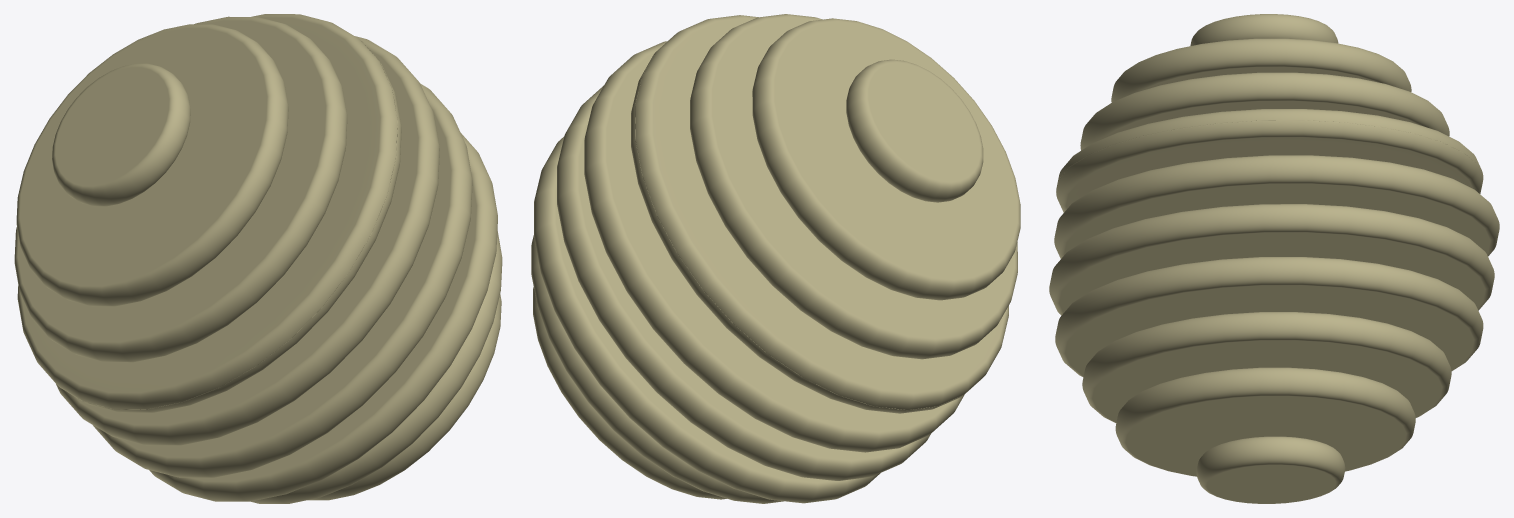
3 renders of one model, left to right at view 1: azimuth 30°, elevation 25°; view 2: azimuth 150°, elevation 25°; view 3: azimuth 270°, elevation 25°, orthographic. The views are drawn at different scales.
Parts seen in each view (by area): view 1: Cylinder007001, Cylinder009001, Cylinder008001, Cylinder005002, Cylinder005001, Cylinder004001, Cylinder006001, Cylinder003001, Cylinder002001; view 2: Cylinder007001, Cylinder009001, Cylinder008001, Cylinder005002, Cylinder005001, Cylinder004001, Cylinder006001, Cylinder003001, Cylinder002001; view 3: Cylinder004001, Cylinder005001, Cylinder002001, Cylinder003001, Cylinder005002, Cylinder009001, Cylinder008001, Cylinder007001, Cylinder001001, Cylinder006001.
Boxes of the visible parts, x1,y1,x2,y2 form: Cylinder007001: [16, 24, 288, 306]; Cylinder009001: [17, 14, 401, 412]; Cylinder008001: [14, 16, 347, 362]; Cylinder005002: [56, 36, 439, 445]; Cylinder005001: [93, 83, 472, 477]; Cylinder004001: [149, 133, 497, 501]; Cylinder006001: [52, 63, 190, 206]; Cylinder003001: [251, 231, 502, 503]; Cylinder002001: [308, 294, 501, 500]; Cylinder007001: [752, 18, 1020, 300]; Cylinder009001: [631, 15, 1008, 413]; Cylinder008001: [690, 14, 1017, 359]; Cylinder005002: [584, 41, 964, 452]; Cylinder005001: [557, 85, 930, 480]; Cylinder004001: [534, 136, 880, 503]; Cylinder006001: [846, 59, 983, 202]; Cylinder003001: [531, 235, 783, 503]; Cylinder002001: [533, 287, 726, 499]; Cylinder004001: [1055, 257, 1483, 376]; Cylinder005001: [1049, 204, 1494, 315]; Cylinder002001: [1115, 367, 1415, 476]; Cylinder003001: [1082, 312, 1451, 422]; Cylinder005002: [1054, 155, 1499, 258]; Cylinder009001: [1056, 109, 1483, 212]; Cylinder008001: [1080, 72, 1449, 150]; Cylinder007001: [1111, 38, 1411, 102]; Cylinder001001: [1196, 436, 1345, 503]; Cylinder006001: [1190, 14, 1338, 45].
Bounding box in the file's own units: 2.36 × 2.4 × 2.3.
